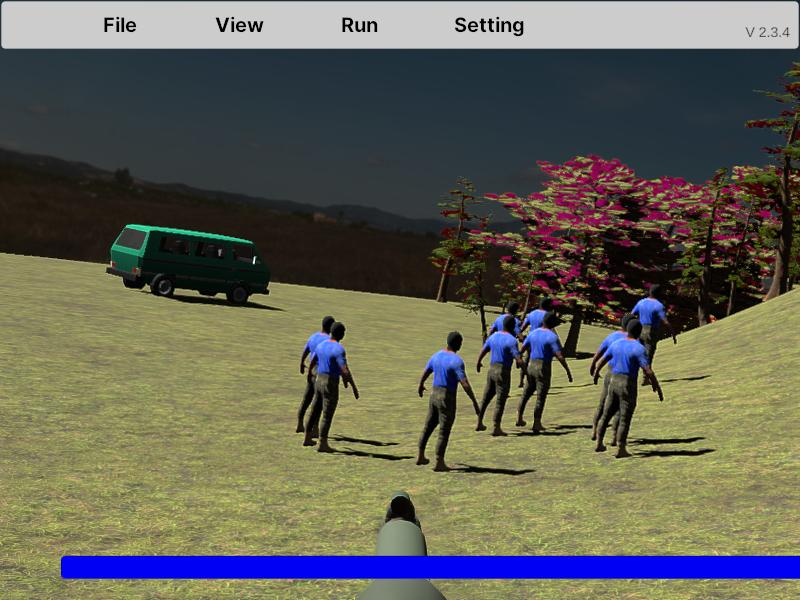Human: (591, 312, 662, 459), (416, 329, 481, 473), (306, 318, 359, 454), (516, 311, 573, 434), (476, 316, 526, 435), (621, 285, 676, 391)
car: (107, 224, 272, 305)
